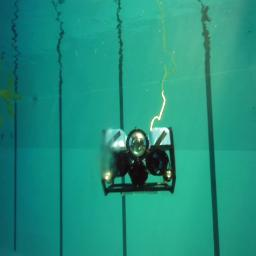front: (101, 126, 176, 196)
